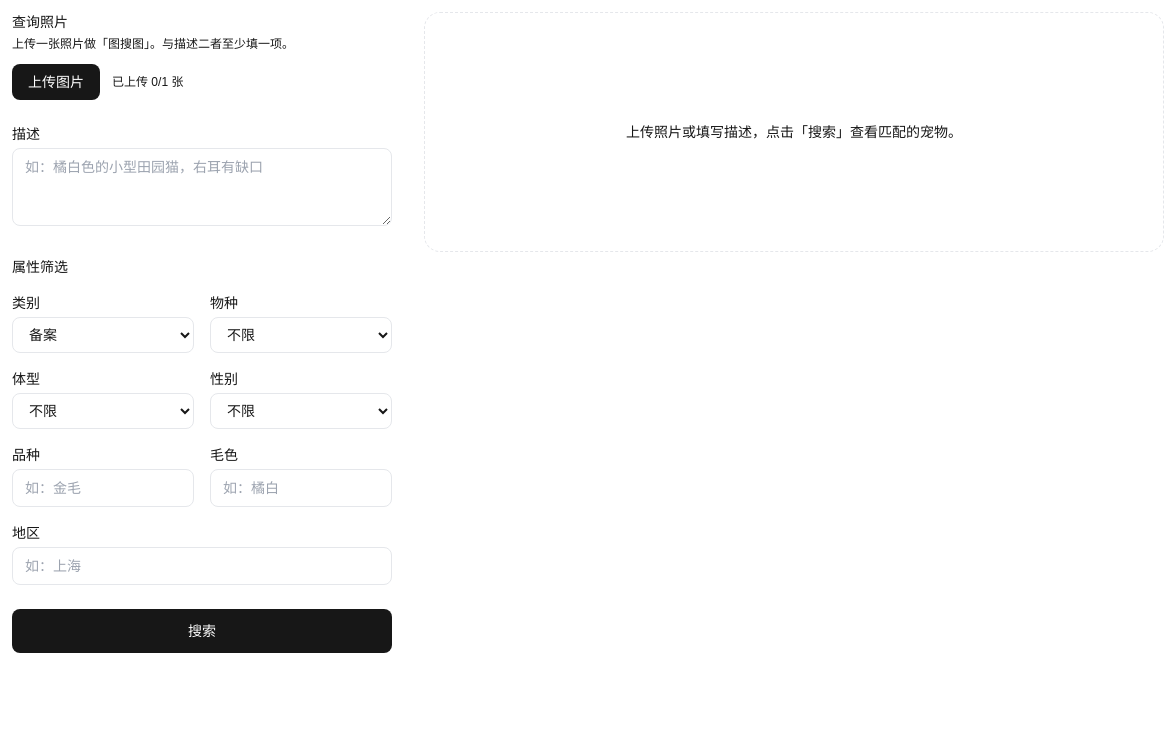
Test: SearchForm › blocks submitting with neither a photo nor a description
This screenshot has width=1164, height=732.
Click the button "搜索". click: (202, 631)
box: [12, 609, 392, 653]
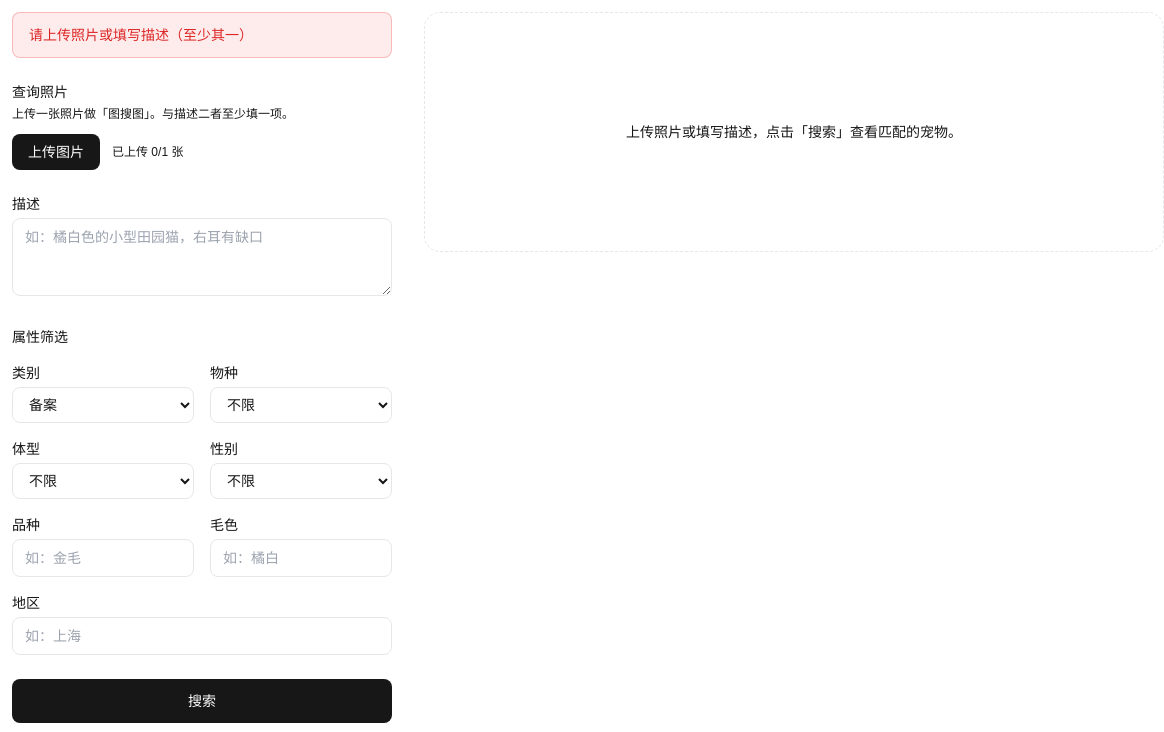
Check: the message "请上传照片或填写描述（至少其一）" is shown, box [12, 12, 392, 58]
Check: the message reads "请上传照片或填写描述（至少其一）", box [29, 27, 253, 43]
